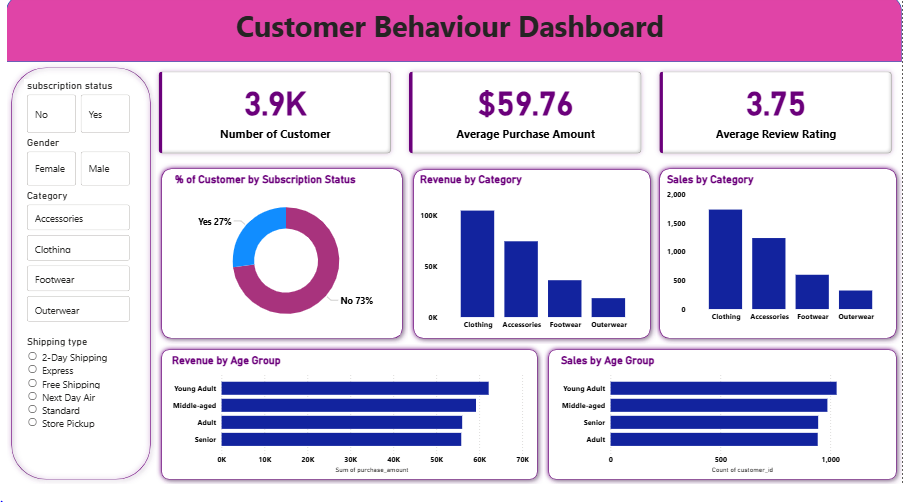

What the dashboard file says about the page in this screenshot:
{"tool":"powerbi","page":{"name":"Page 1","canvas":[1500,820],"ordinal":0},"visuals":[{"type":"cardVisual","fields":{"Data":["public_customer.Number of customer","public_customer.Average purchase amount","public_customer.Average review rating"]},"box":[239.3,112.1,1260.1,169],"z":0},{"type":"shape","box":[0,0,1499.4,112.1],"z":1000},{"type":"textbox","box":[0,13.4,1486,98.7],"z":2000},{"type":"shape","box":[251,281.1,421.7,302.9],"z":3000},{"type":"donutChart","title":"% of Customer by Subscription Status","fields":{"Category":["public_customer.subscription_status"],"Y":["CountNonNull(public_customer.customer_id)"]},"box":[277.8,297.9,381.6,271.1],"z":4000},{"type":"shape","box":[672.7,282.8,415,301.2],"z":5000},{"type":"shape","box":[1084.4,281.1,415,302.9],"z":6000},{"type":"clusteredColumnChart","title":"Revenue by Category","fields":{"Y":["Sum(public_customer.purchase_amount)"],"Category":["public_customer.category"]},"box":[687.8,297.9,384.9,271.1],"z":7000},{"type":"clusteredColumnChart","title":"Sales by Category","fields":{"Y":["CountNonNull(public_customer.customer_id)"],"Category":["public_customer.category"]},"box":[1101.1,297.9,384.9,257.7],"z":8000},{"type":"shape","box":[0,112.1,251,707.9],"z":9000},{"type":"advancedSlicerVisual","fields":{"Values":["public_customer.subscription_status"]},"box":[30.1,140.6,182.4,95.4],"z":10000},{"type":"advancedSlicerVisual","fields":{"Values":["public_customer.gender"]},"box":[30.1,236,182.4,88.7],"z":11000},{"type":"advancedSlicerVisual","fields":{"Values":["public_customer.category"]},"box":[30.1,324.7,182.4,230.9],"z":12000},{"type":"listSlicer","fields":{"Values":["public_customer.shipping_type"]},"box":[30.1,569,190.8,212.5],"z":13000},{"type":"shape","box":[251,584,647.6,236],"z":14000},{"type":"clusteredBarChart","title":"Revenue by Age Group","fields":{"Y":["Sum(public_customer.purchase_amount)"],"Category":["public_customer.age_group"]},"box":[272.8,600.8,607.5,204.2],"z":15000},{"type":"shape","box":[898.7,584,600.8,236],"z":16000},{"type":"clusteredBarChart","title":"Sales by Age Group","fields":{"Y":["CountNonNull(public_customer.customer_id)"],"Category":["public_customer.age_group"]},"box":[923.8,600.8,550.6,204.2],"z":17000}]}

Visuals, with their boxes in screenshot pixels (x1, y1, x2, y2), scaled from the page's 1500x820 canvas onto the 903x502 screenshot:
cardVisual - public_customer.Number of customer x public_customer.Average purchase amount: pyautogui.locateOnScreen(144, 69, 902, 172)
shape: pyautogui.locateOnScreen(0, 0, 902, 69)
textbox: pyautogui.locateOnScreen(0, 8, 895, 69)
shape: pyautogui.locateOnScreen(151, 172, 405, 358)
"% of Customer by Subscription Status" donutChart: pyautogui.locateOnScreen(167, 182, 397, 348)
shape: pyautogui.locateOnScreen(405, 173, 655, 358)
shape: pyautogui.locateOnScreen(653, 172, 902, 358)
"Revenue by Category" clusteredColumnChart: pyautogui.locateOnScreen(414, 182, 646, 348)
"Sales by Category" clusteredColumnChart: pyautogui.locateOnScreen(663, 182, 895, 340)
shape: pyautogui.locateOnScreen(0, 69, 151, 501)
advancedSlicerVisual - public_customer.subscription_status: pyautogui.locateOnScreen(18, 86, 128, 144)
advancedSlicerVisual - public_customer.gender: pyautogui.locateOnScreen(18, 144, 128, 199)
advancedSlicerVisual - public_customer.category: pyautogui.locateOnScreen(18, 199, 128, 340)
listSlicer - public_customer.shipping_type: pyautogui.locateOnScreen(18, 348, 133, 478)
shape: pyautogui.locateOnScreen(151, 358, 541, 501)
"Revenue by Age Group" clusteredBarChart: pyautogui.locateOnScreen(164, 368, 530, 493)
shape: pyautogui.locateOnScreen(541, 358, 902, 501)
"Sales by Age Group" clusteredBarChart: pyautogui.locateOnScreen(556, 368, 888, 493)
